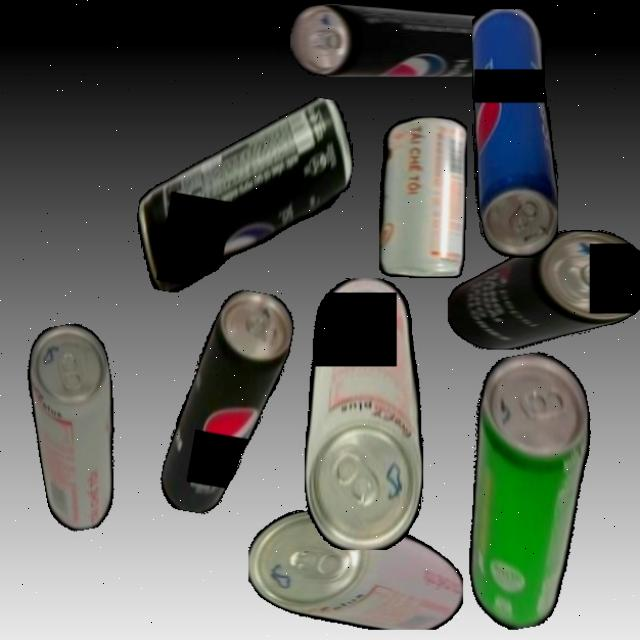debris: (126, 71, 363, 319), (434, 345, 624, 635), (156, 282, 298, 524), (304, 277, 423, 550), (249, 509, 463, 630), (18, 319, 136, 535), (447, 230, 640, 350), (472, 8, 558, 258), (290, 2, 516, 77), (378, 117, 467, 278)
